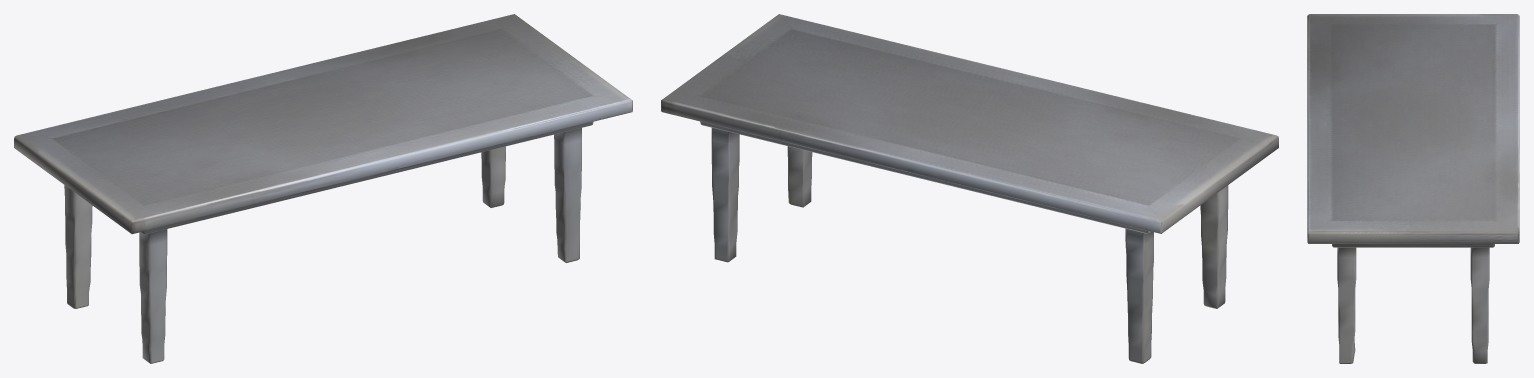
The model's file is farm_limewash_Table_40_x_96_Farm_S_0402212119_texture.glb.
3 renders of one model, left to right at view 1: azimuth 30°, elevation 25°; view 2: azimuth 150°, elevation 25°; view 3: azimuth 270°, elevation 25°, orthographic. The views are drawn at different scales.
Visible parts, largest first — view 1: Mesh_0; view 2: Mesh_0; view 3: Mesh_0.
Boxes of the visible parts, left/top/right/bottom form: Mesh_0: left=14, top=14, right=632, bottom=363; Mesh_0: left=661, top=14, right=1278, bottom=363; Mesh_0: left=1307, top=14, right=1519, bottom=363.
Size of the model in its own units: 2.43 by 0.762 by 0.9911.
1 material, 1 textured.
